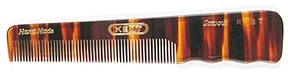grozi_17: (7, 10, 282, 63)
